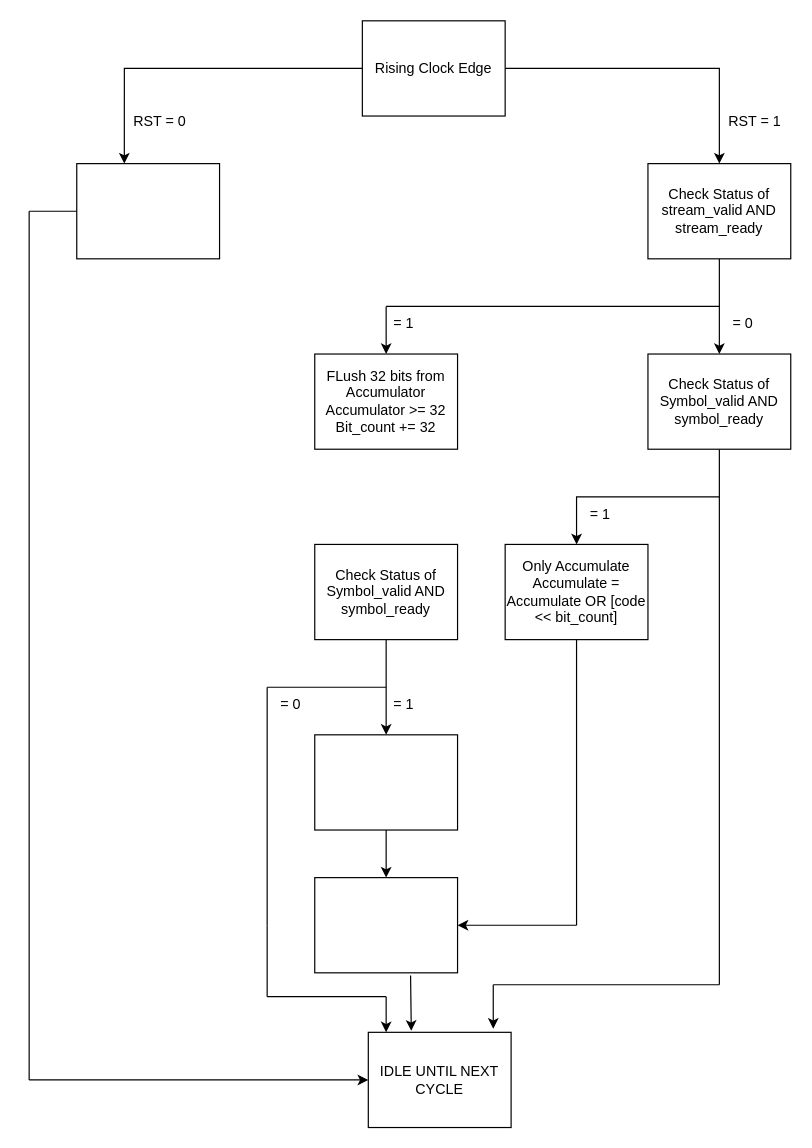
Some shapes in this 812 by 1148 pixel diagram are drawn without their labels. The centre of each missing label's shape, as x and y in pixels:
accumulator <= 0 bit_count <= 0: pixel 148 210
END CYCLE: Repeat Same at Next Cycle: pixel 386 924
Insert new code at bit_count POS bit_count = bit_count + current_len: pixel 386 782
